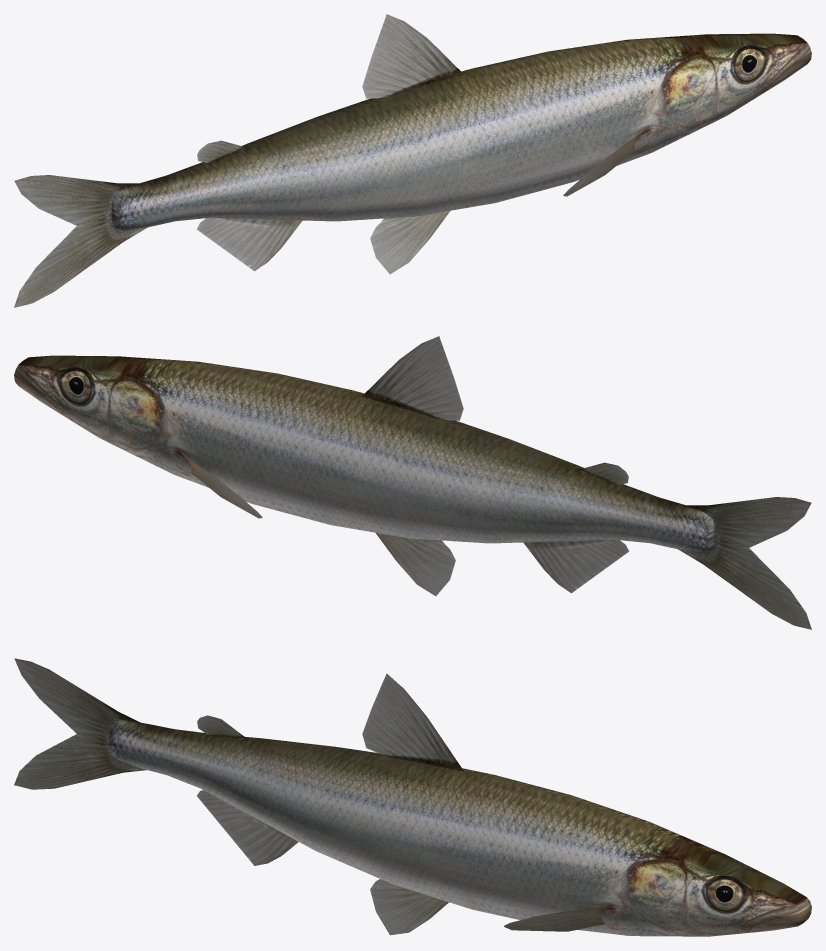
File: EuropeanSmelt.glb
The picture shows the model from 3 angles, top to bottom: view 1: azimuth 30°, elevation 25°; view 2: azimuth 150°, elevation 25°; view 3: azimuth 330°, elevation 25°; orthographic projection.
Visible parts, largest first — view 1: EuropeanSmelt; view 2: EuropeanSmelt; view 3: EuropeanSmelt.
Part boxes in pixels (x1,y1,x2,y2): EuropeanSmelt: [14, 14, 811, 307]; EuropeanSmelt: [14, 336, 811, 629]; EuropeanSmelt: [14, 658, 811, 936].
Bounding box in the file's own units: 2 × 0.6279 × 0.2601.
1 material, 1 textured.
